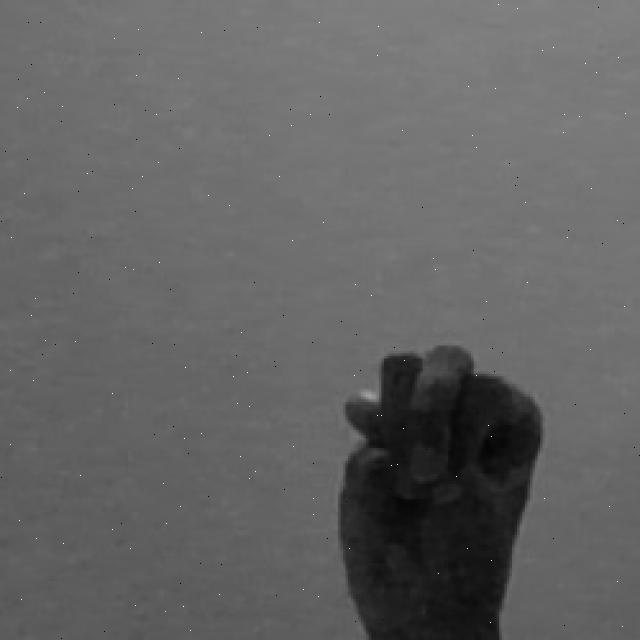M: (331, 339, 553, 640)
